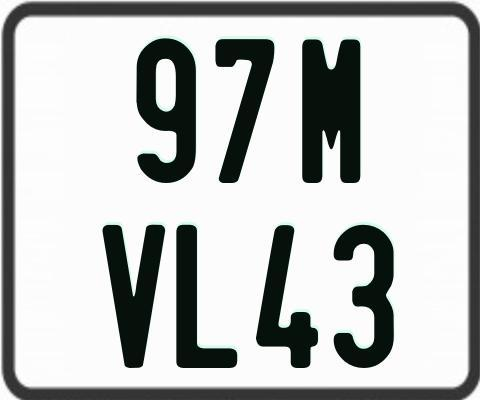3: (333, 224, 397, 367)
4: (254, 223, 321, 371)
7: (213, 37, 273, 187)
9: (135, 38, 195, 183)
L: (174, 225, 241, 374)
M: (301, 38, 359, 183)
V: (102, 225, 167, 372)
